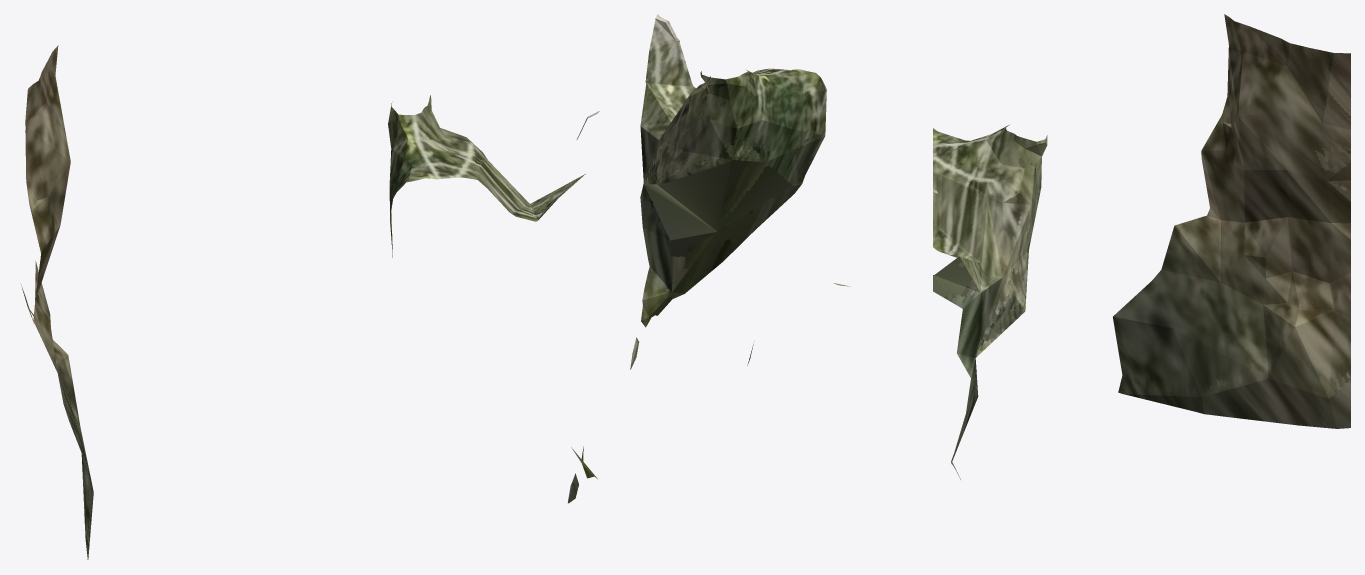
The picture shows the model from 3 angles, left to right: view 1: azimuth 30°, elevation 25°; view 2: azimuth 150°, elevation 25°; view 3: azimuth 270°, elevation 25°; orthographic projection. The views are drawn at different scales.
Size of the model in its own units: 2.95 by 2.95 by 2.95.
Materials: 3 (3 with a texture image).
